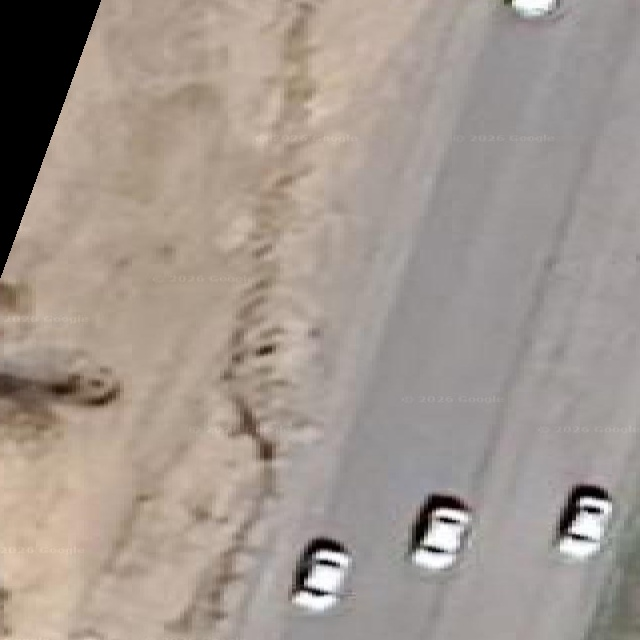car: (410, 495, 471, 570), (291, 538, 351, 612), (556, 485, 612, 559), (504, 0, 560, 17)
